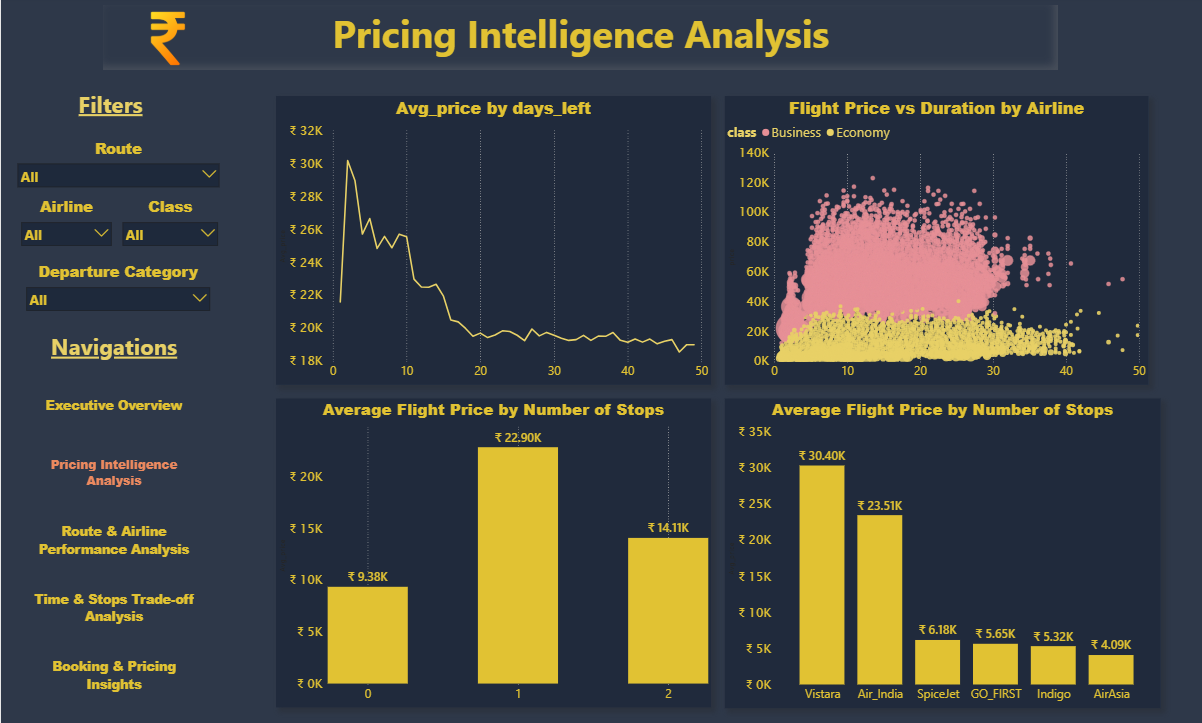

Layout of this report page (visuals, bound fields, positions):
{"tool":"powerbi","page":{"name":"Pricing Intelligence Analysis","canvas":[2300,1400],"ordinal":1},"visuals":[{"type":"textbox","box":[195.1,17.1,1822,124.4],"z":0},{"type":"image","box":[169,18.1,298.7,123.7],"z":1000},{"type":"lineChart","fields":{"Category":["Airline.days_left"],"Y":["Airline.Avg_price"]},"box":[524.9,190.9,830.3,551.1],"z":2000},{"type":"scatterChart","title":"Flight Price vs Duration by Airline","fields":{"X":["Airline.duration"],"Y":["Airline.price"],"Series":["Airline.class"],"Size":["Airline.Total Flights"]},"box":[1381.4,190.9,808.8,551.1],"z":3000},{"type":"clusteredColumnChart","title":"Average Flight Price by Number of Stops","fields":{"Category":["Airline.Stops Numeric"],"Y":["Airline.Avg_price"]},"box":[524.9,768.2,830.3,589.3],"z":4000},{"type":"clusteredColumnChart","title":"Average Flight Price by Number of Stops","fields":{"Y":["Airline.Avg_price"],"Category":["Airline.airline"]},"box":[1381.8,767.4,832.2,591.1],"z":5000},{"type":"shape","box":[18.1,171.8,406.9,488.3],"z":6000},{"type":"slicer","title":"Airline","fields":{"Values":["Airline.airline"]},"box":[29.2,382.6,192.5,109.7],"z":7000},{"type":"slicer","title":"Route","fields":{"Values":["Airline.Route"]},"box":[20.8,270.2,405.3,111.7],"z":8000},{"type":"slicer","title":"Class","fields":{"Values":["Airline.class"]},"box":[221.8,382.6,202.3,109.7],"z":9000},{"type":"slicer","title":"Departure Category","fields":{"Values":["Airline.Departure Category"]},"box":[39,506.9,370.4,129.2],"z":10000},{"type":"textbox","box":[143.2,171.8,150.3,76.3],"z":11000},{"type":"textbox","box":[76.3,634.6,279.1,83.5],"z":12000},{"type":"pageNavigator","box":[39,719.7,356,639.2],"z":13000}]}

Visuals, with their boxes in screenshot pixels (x1, y1, x2, y2), scaled from the page's 2300x1400 canvas onto the 1202x723 screenshot:
textbox: box(102, 9, 1054, 73)
image: box(88, 9, 244, 73)
lineChart - Airline.days_left x Airline.Avg_price: box(274, 99, 708, 383)
"Flight Price vs Duration by Airline" scatterChart: box(722, 99, 1145, 383)
"Average Flight Price by Number of Stops" clusteredColumnChart: box(274, 397, 708, 701)
"Average Flight Price by Number of Stops" clusteredColumnChart: box(722, 396, 1157, 702)
shape: box(9, 89, 222, 341)
"Airline" slicer: box(15, 198, 116, 254)
"Route" slicer: box(11, 140, 223, 197)
"Class" slicer: box(116, 198, 222, 254)
"Departure Category" slicer: box(20, 262, 214, 329)
textbox: box(75, 89, 153, 128)
textbox: box(40, 328, 186, 371)
pageNavigator: box(20, 372, 206, 702)
